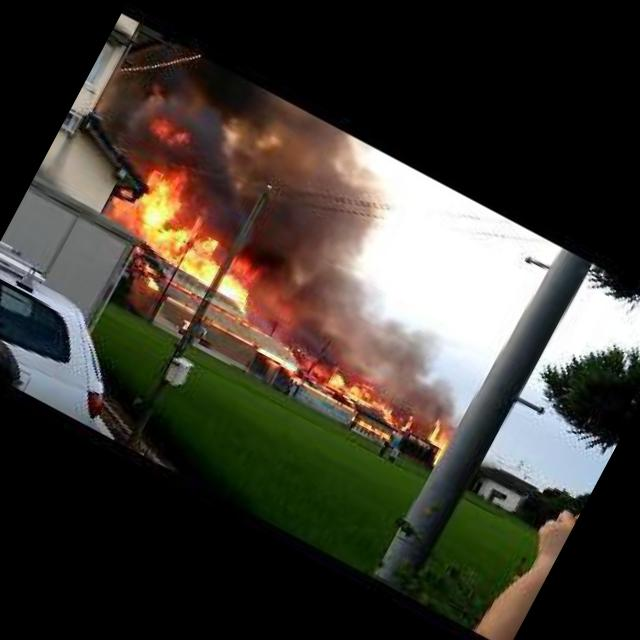fire: (82, 146, 298, 322), (292, 350, 418, 433), (291, 376, 356, 412), (416, 420, 455, 466), (146, 114, 191, 150), (349, 412, 394, 441), (138, 266, 170, 298), (232, 313, 263, 334), (282, 343, 302, 358)
smoke: (174, 72, 416, 271), (254, 248, 493, 430)
